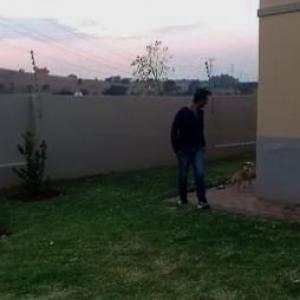follow: (172, 77, 214, 216)
